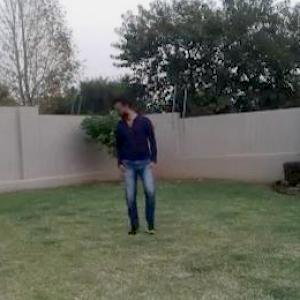follow: (115, 86, 158, 230)
